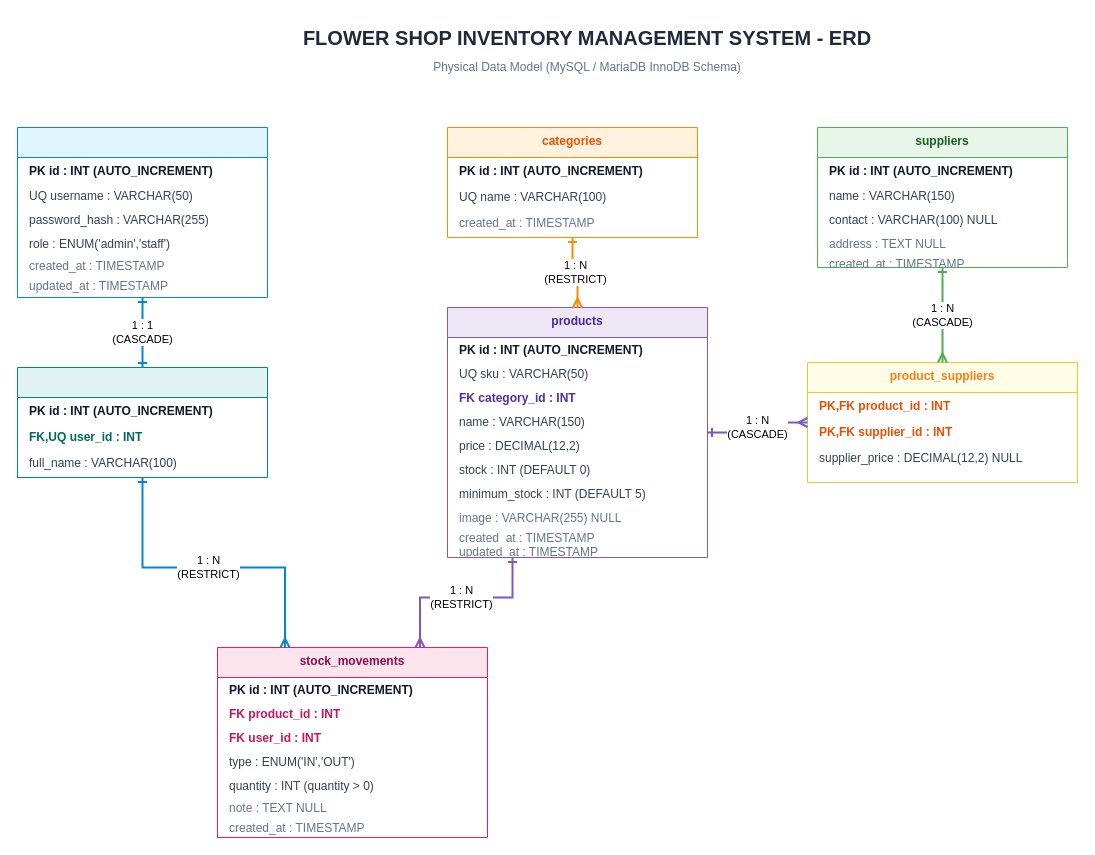
Image size: 1095x855. Some labels were removed from this diagram. The box of each missing label's shape, as (x1, y1, x2, y2) in pixels:
user_profiles: (16, 366, 268, 478)
users: (16, 126, 268, 298)
